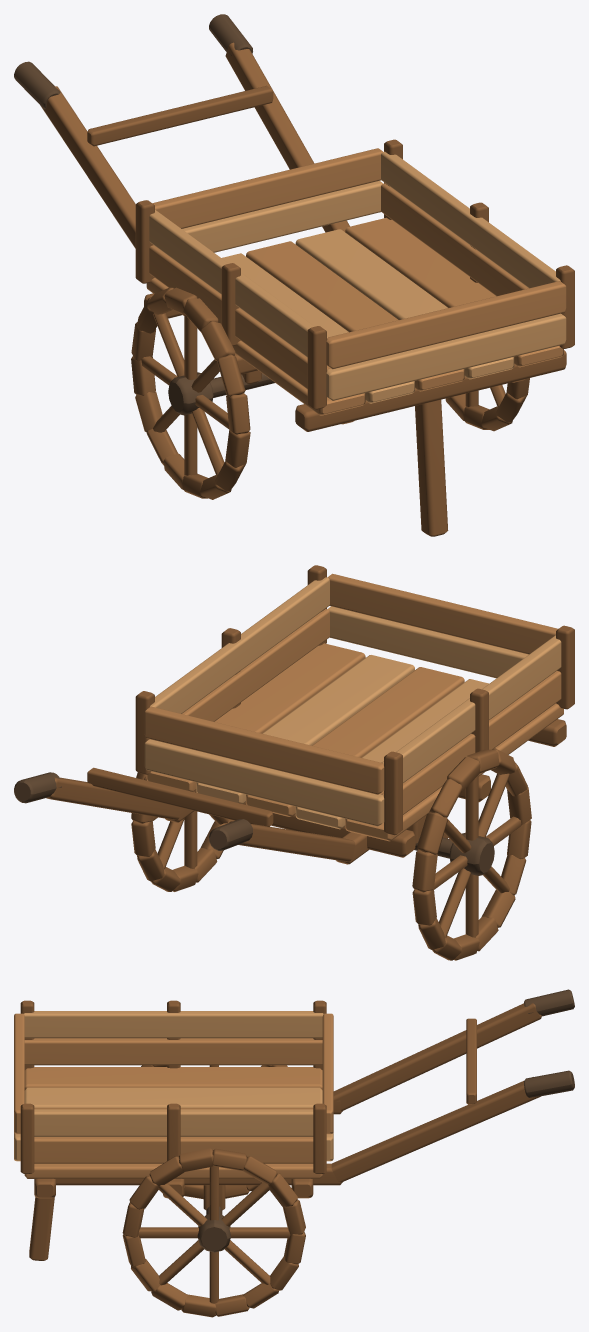
File: charrette.glb
3 renders of one model, top to bottom at view 1: azimuth 30°, elevation 25°; view 2: azimuth 150°, elevation 25°; view 3: azimuth 270°, elevation 25°, orthographic. The views are drawn at different scales.
Visible parts, largest first — view 1: caisse_planche_charrette.002, caisse_planche_charrette_claire.002, caisse_bois_roue.002, roue_d_bois_roue.002, caisse_bois_sombre.002, roue_g_bois_roue.002, roue_d_bois_sombre.002; view 2: caisse_planche_charrette.002, caisse_planche_charrette_claire.002, caisse_bois_roue.002, roue_d_bois_roue.002, roue_g_bois_roue.002, caisse_bois_sombre.002, roue_d_bois_sombre.002; view 3: caisse_planche_charrette.002, caisse_planche_charrette_claire.002, caisse_bois_roue.002, roue_g_bois_roue.002, caisse_bois_sombre.002, roue_g_bois_sombre.002, roue_d_bois_roue.002.
Part boxes in pixels (x1,y1,x2,y2): caisse_planche_charrette.002: (146,148,566,415); caisse_planche_charrette_claire.002: (149,151,566,403); caisse_bois_roue.002: (41,42,574,536); roue_d_bois_roue.002: (131,287,250,499); caisse_bois_sombre.002: (14,14,274,397); roue_g_bois_roue.002: (445,378,529,431); roue_d_bois_sombre.002: (168,372,213,415); caisse_planche_charrette.002: (144,573,563,841); caisse_planche_charrette_claire.002: (144,577,561,829); caisse_bois_roue.002: (46,565,574,864); roue_d_bois_roue.002: (412,748,531,960); roue_g_bois_roue.002: (131,772,234,891); caisse_bois_sombre.002: (14,772,452,858); roue_d_bois_sombre.002: (449,832,494,875); caisse_planche_charrette.002: (14,1013,333,1178); caisse_planche_charrette_claire.002: (14,1011,333,1161); caisse_bois_roue.002: (20,1000,541,1260); roue_g_bois_roue.002: (122,1148,305,1317); caisse_bois_sombre.002: (206,989,574,1214); roue_g_bois_sombre.002: (197,1214,230,1252); roue_d_bois_roue.002: (141,1065,287,1199).
Bounding box in the file's own units: 1.13 × 0.9274 × 2.07.
